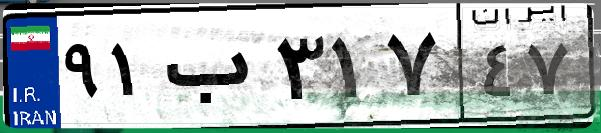1: (330, 28, 385, 110), (110, 28, 158, 98)
3: (270, 28, 330, 110)
4: (475, 38, 525, 113)
7: (385, 28, 445, 110), (525, 38, 570, 115)
9: (57, 26, 110, 100)
ب: (158, 20, 270, 120)
